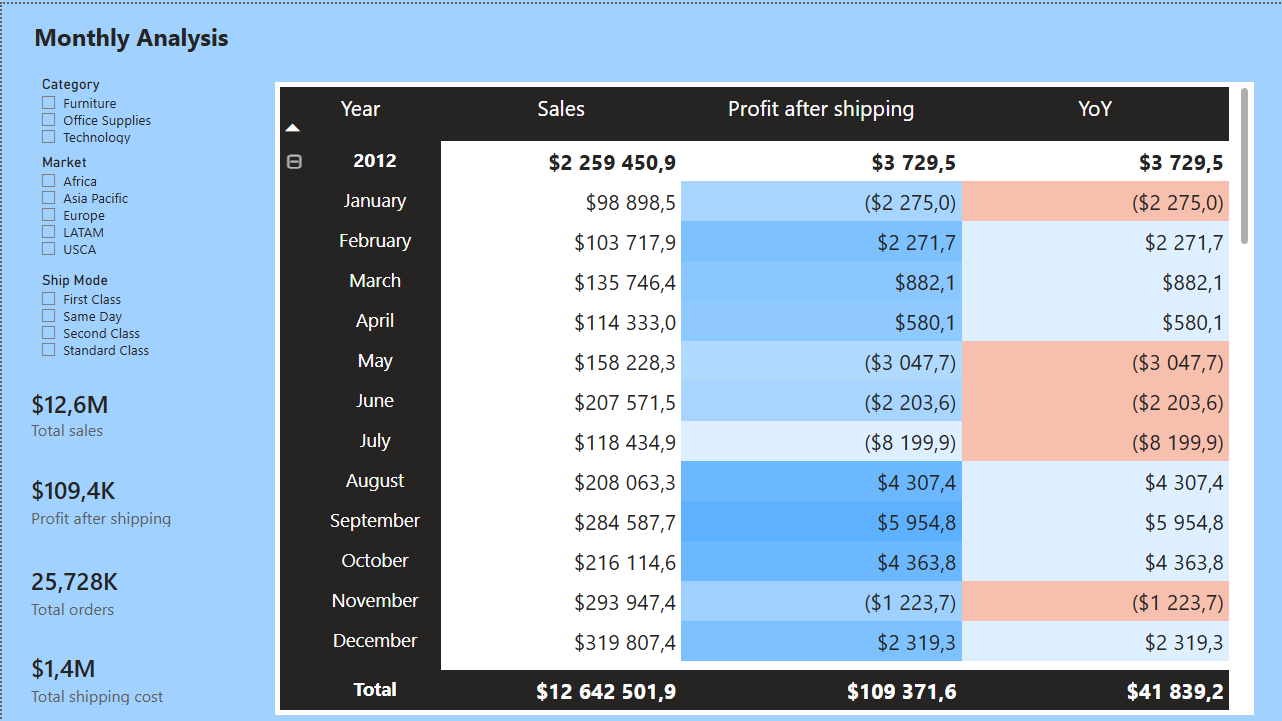

What the dashboard file says about the page in this screenshot:
{"tool":"powerbi","page":{"name":"Page 2: Monthly analysis","canvas":[1280,720],"ordinal":1},"visuals":[{"type":"slicer","fields":{"Values":["Dim_Product.Category"]},"box":[26.6,67.4,167.6,78.5],"z":0,"group":"g2"},{"type":"pivotTable","fields":{"Rows":["Calendar.Date.Variation.Date Hierarchy.Year","Calendar.Date.Variation.Date Hierarchy.Month"],"Values":["_mesures.Ttl_sales","_mesures.Profit_after_shipping","_mesures.Profit_after_shipping_YoY"]},"box":[273.1,78,978.9,633.1],"z":0},{"type":"cardVisual","fields":{"Data":["_mesures.Ttl_sales"]},"box":[0,366.2,233.2,86.8],"z":0,"group":"g1"},{"type":"slicer","fields":{"Values":["Dim_Adress.Market"]},"box":[26.6,145.9,167.6,117.4],"z":1000,"group":"g2"},{"type":"group","id":"g1","title":"Group 1","box":[0,366.2,233.2,353.8],"z":1000},{"type":"cardVisual","fields":{"Data":["_mesures.Profit_after_shipping"]},"box":[0,453,233.2,86.8],"z":1000,"group":"g1"},{"type":"textbox","box":[26.6,10.6,210.1,44.3],"z":2000},{"type":"slicer","fields":{"Values":["Fact_Orders.Ship Mode"]},"box":[26.6,263.3,167.6,96.8],"z":2000,"group":"g2"},{"type":"cardVisual","fields":{"Data":["Count(Fact_Orders.Order ID)"]},"box":[0,544.4,233.2,86.8],"z":2000,"group":"g1"},{"type":"group","id":"g2","title":"Group 2","box":[26.6,67.4,167.6,292.6],"z":3000},{"type":"cardVisual","fields":{"Data":["_mesures.Ttl_shipping_cost"]},"box":[0,631.2,233.2,86.8],"z":3000,"group":"g1"}]}

Visuals, with their boxes in screenshot pixels (x1, y1, x2, y2), scaled from the page's 1280x720 canvas onto the 1282x721 screenshot:
slicer - Dim_Product.Category: <bbox>27, 67, 195, 146</bbox>
pivotTable - Calendar.Date.Variation.Date Hierarchy.Year x Calendar.Date.Variation.Date Hierarchy.Month: <bbox>274, 78, 1254, 712</bbox>
cardVisual - _mesures.Ttl_sales: <bbox>0, 367, 234, 454</bbox>
slicer - Dim_Adress.Market: <bbox>27, 146, 195, 264</bbox>
"Group 1" group: <bbox>0, 367, 234, 720</bbox>
cardVisual - _mesures.Profit_after_shipping: <bbox>0, 454, 234, 541</bbox>
textbox: <bbox>27, 11, 237, 55</bbox>
slicer - Fact_Orders.Ship Mode: <bbox>27, 264, 195, 361</bbox>
cardVisual - Count(Fact_Orders.Order ID): <bbox>0, 545, 234, 632</bbox>
"Group 2" group: <bbox>27, 67, 195, 360</bbox>
cardVisual - _mesures.Ttl_shipping_cost: <bbox>0, 632, 234, 719</bbox>
